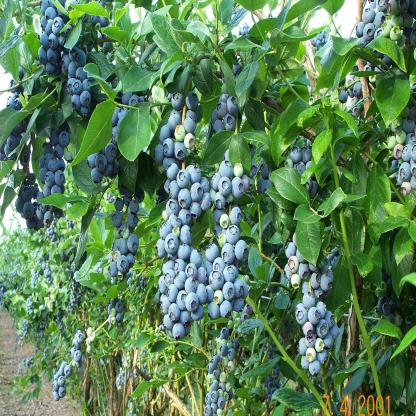blueberry leaf: (63, 95, 121, 165), (312, 31, 365, 97), (200, 128, 270, 175), (376, 55, 414, 138), (116, 97, 155, 177), (271, 24, 326, 70), (363, 158, 391, 242), (261, 167, 316, 206), (292, 206, 327, 267), (327, 250, 351, 331), (148, 6, 179, 50), (231, 59, 260, 106), (119, 64, 154, 100), (188, 56, 215, 100)
